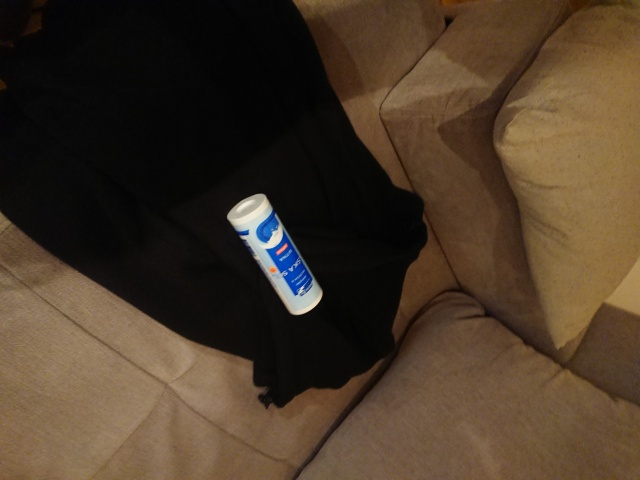Solana Pag Fine Sea Salt 250g: (224, 190, 325, 318)
